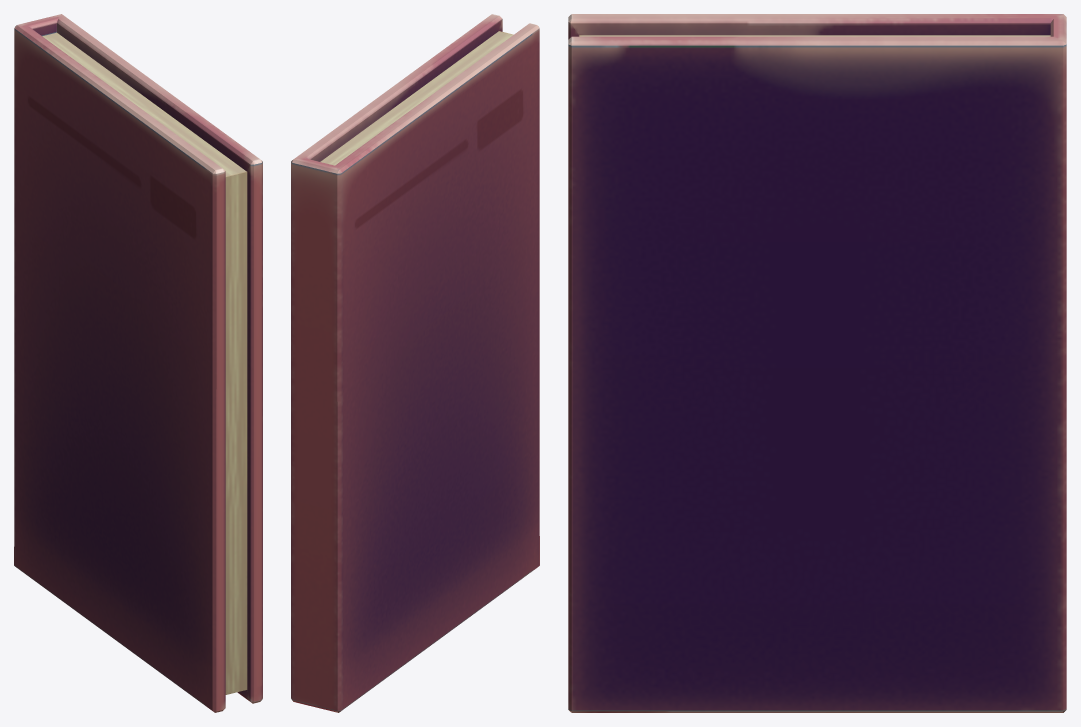
Rendered from Libro_0.fbx.
3 renders of one model, left to right at view 1: azimuth 30°, elevation 25°; view 2: azimuth 150°, elevation 25°; view 3: azimuth 270°, elevation 25°, orthographic. The views are drawn at different scales.
Parts seen in each view (by area): view 1: Libros 0; view 2: Libros 0; view 3: Libros 0.
Boxes of the visible parts, x1,y1,x2,y2 form: Libros 0: [14, 14, 262, 712]; Libros 0: [291, 14, 539, 712]; Libros 0: [568, 14, 1066, 712].
Bounding box in the file's own units: 9.08 × 93.81 × 63.07.
